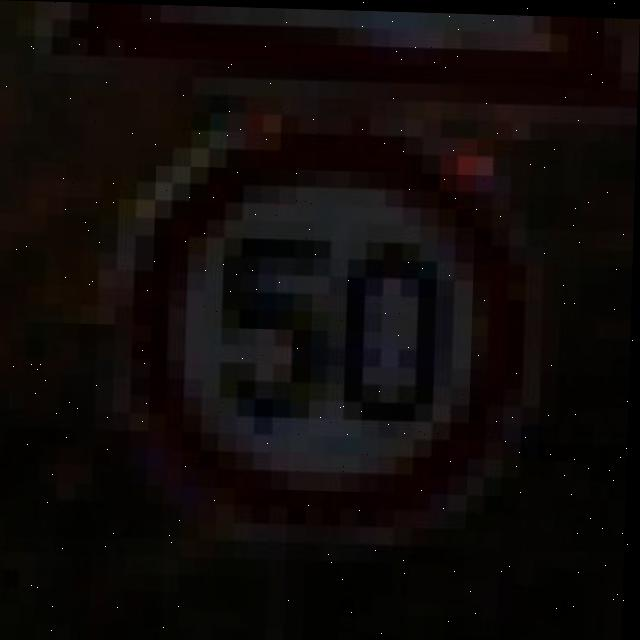Speed limit 50: (109, 78, 556, 542)
